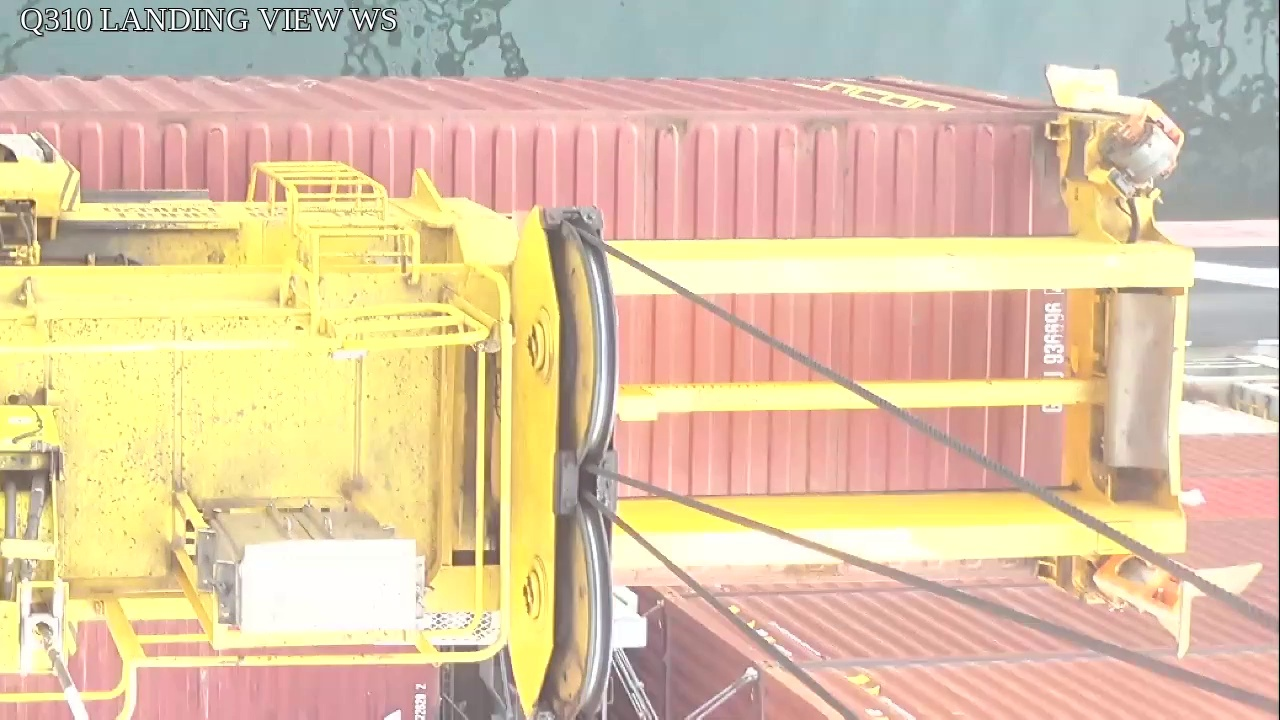right: (508, 206, 616, 720)
